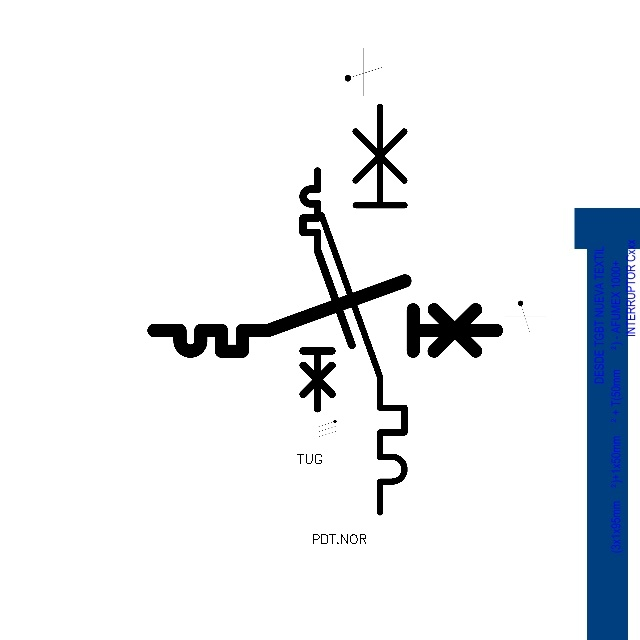interruptor_termomagnetico: (311, 96, 415, 523), (145, 272, 505, 360), (297, 165, 358, 415)
